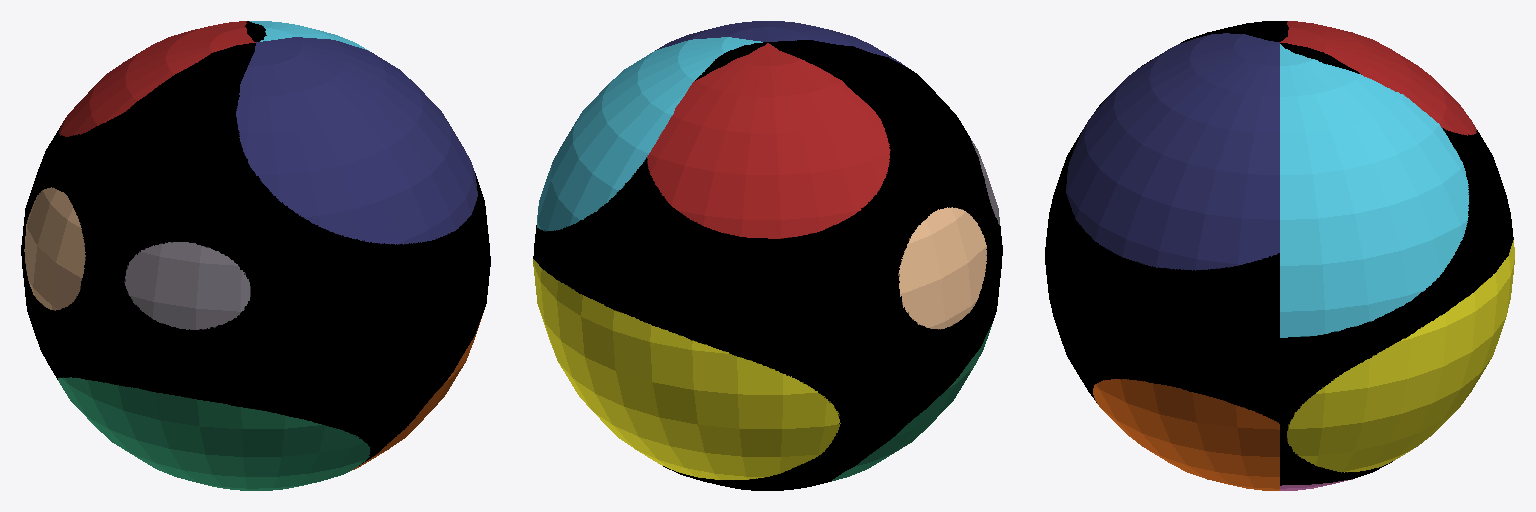
3 renders of one model, left to right at view 1: azimuth 30°, elevation 25°; view 2: azimuth 150°, elevation 25°; view 3: azimuth 270°, elevation 25°, orthographic.
Visible parts, largest first — view 1: 球; view 2: 球; view 3: 球.
Part boxes in pixels (x1,y1,x2,y2): 球: (21,21,490,490); 球: (533,21,1002,490); 球: (1045,21,1514,490).
Bounding box in the file's own units: 2 × 2 × 2.
1 materials, 1 textured.